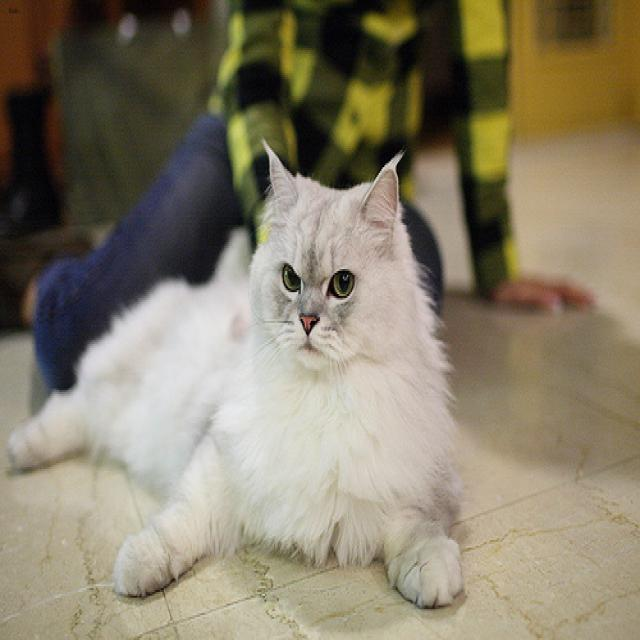Persian: (259, 135, 398, 365)
